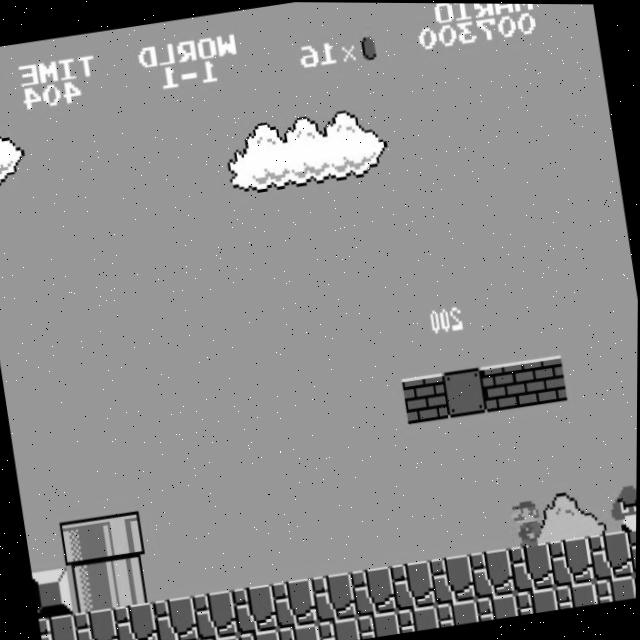1- brick_block: (520, 354, 568, 406), (481, 360, 529, 412), (402, 372, 450, 424)
11- little_mario: (505, 494, 555, 550)
14- pipe: (66, 561, 115, 614), (106, 556, 154, 608)
15- pipe_head: (99, 511, 148, 563), (60, 516, 108, 569)
17- undestructible_block: (429, 553, 478, 605), (350, 565, 399, 617), (310, 571, 359, 623), (231, 583, 280, 635), (588, 528, 636, 581), (509, 540, 557, 593), (548, 535, 596, 587), (469, 547, 517, 599), (390, 559, 438, 611), (271, 577, 319, 629), (192, 589, 240, 640), (152, 595, 201, 640), (112, 601, 161, 640), (73, 606, 121, 640), (515, 586, 560, 615), (436, 598, 481, 627), (555, 580, 599, 609), (476, 592, 520, 621), (397, 604, 441, 633), (357, 610, 401, 639), (595, 573, 637, 603), (39, 613, 81, 640), (317, 616, 361, 640), (278, 622, 322, 640), (238, 627, 282, 640), (627, 523, 637, 575), (199, 634, 243, 640)
3- empty_block: (441, 366, 489, 418)
8- goomba: (608, 479, 637, 534)
9- hard_block: (32, 568, 75, 619)
